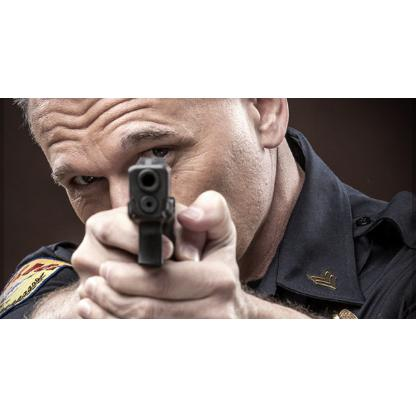gun: (122, 154, 172, 274)
